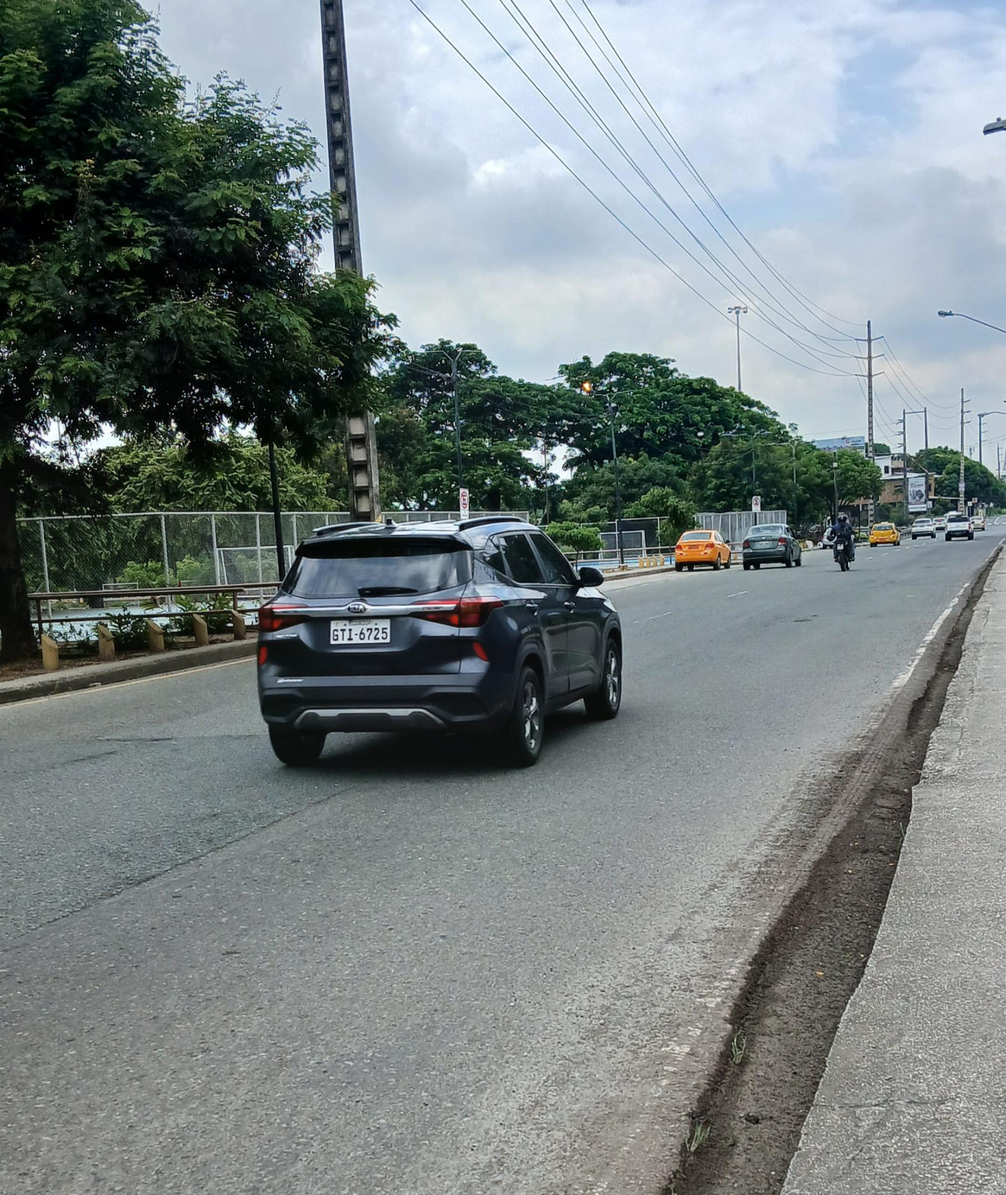license_plate: (328, 619, 392, 643), (761, 541, 773, 547)
